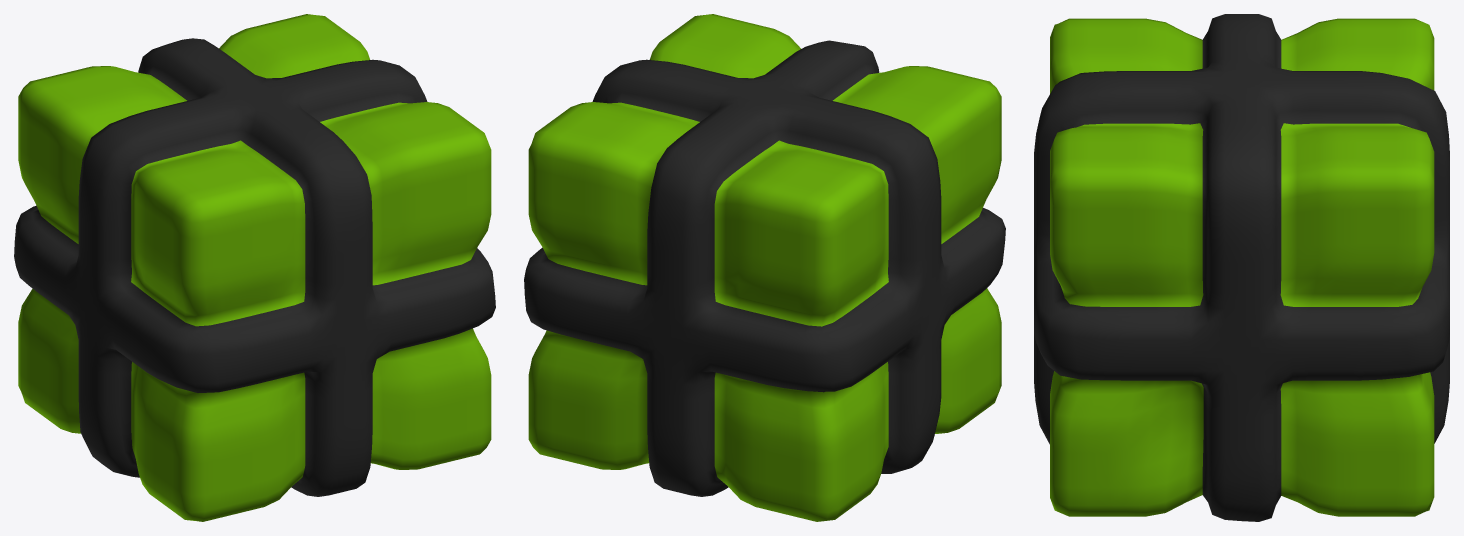
Rendered from Cube_player_Final_Low.FBX.
3 views of the same model, side by side, from view 1: azimuth 30°, elevation 25°; view 2: azimuth 150°, elevation 25°; view 3: azimuth 270°, elevation 25° (orthographic). The views are drawn at different scales.
Parts seen in each view (by area): view 1: Box001; view 2: Box001; view 3: Box001.
Part boxes in pixels (left/top/right/bottom): Box001: left=14, top=14, right=495, bottom=521; Box001: left=524, top=14, right=1005, bottom=521; Box001: left=1034, top=14, right=1449, bottom=521.
Size of the model in its own units: 0.1082 by 0.1082 by 0.1082.
